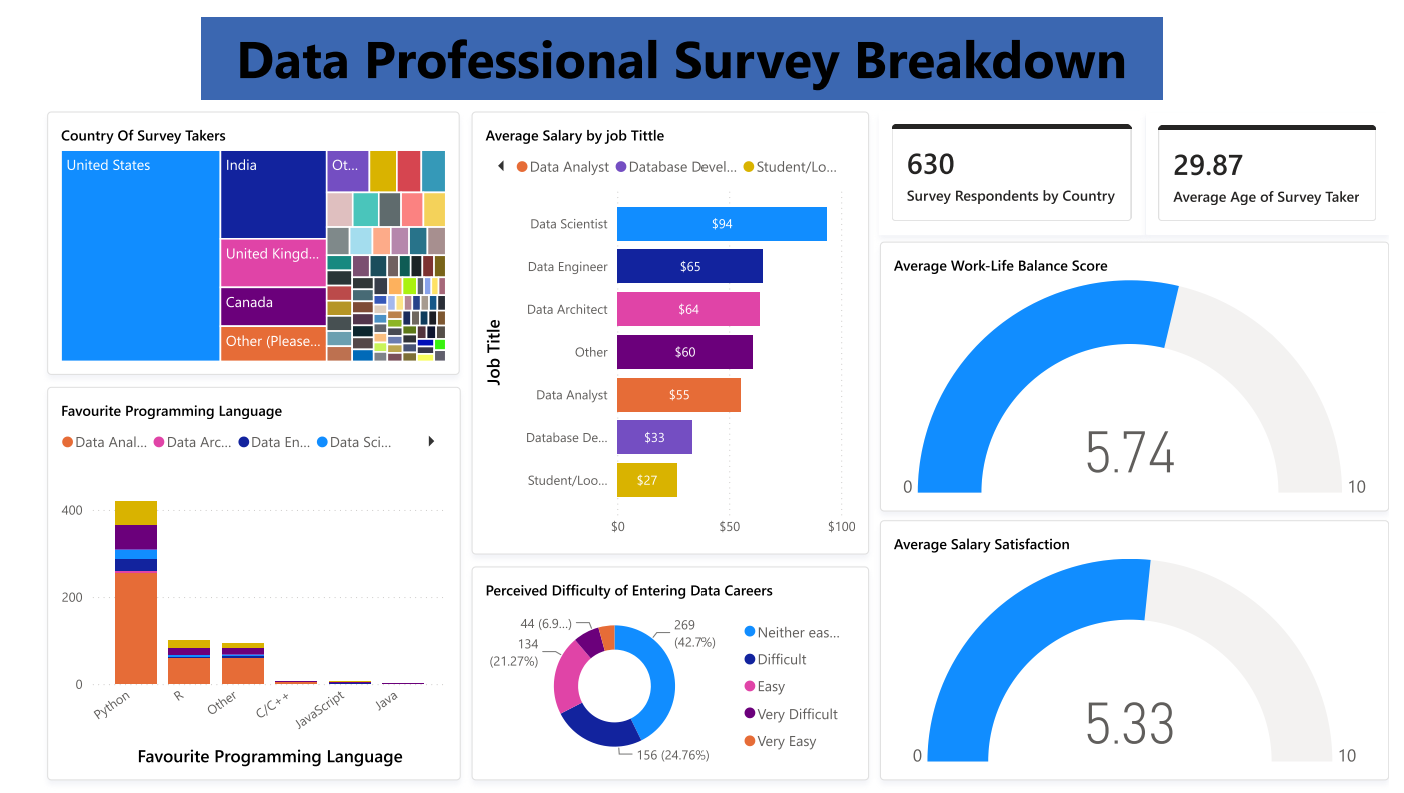

What the dashboard file says about the page in this screenshot:
{"tool":"powerbi","page":{"name":"Page 1","canvas":[1280,720],"ordinal":0},"visuals":[{"type":"textbox","box":[174.3,0,894.7,76.8],"z":0},{"type":"cardVisual","fields":{"Data":["CountNonNull(Data Professional Survey.Unique ID)"]},"box":[805.5,88.2,247.3,114.5],"z":1000},{"type":"cardVisual","fields":{"Data":["Avg(Data Professional Survey.Q10 - Current Age)"]},"box":[1052.5,88.8,227.5,113.8],"z":2000},{"type":"barChart","title":"Average Salary by job Tittle","fields":{"Category":["Data Professional Survey.Q1 - Which Title Best Fits your Current Role?.1"],"Y":["Avg(Data Professional Survey.Average salary)"],"Series":["Data Professional Survey.Q1 - Which Title Best Fits your Current Role?.1"]},"box":[425.5,88,370.5,412.1],"z":3000},{"type":"columnChart","title":"Favourite Programming Language","fields":{"Category":["Data Professional Survey.Q5 - Favorite Programming Language.1"],"Y":["CountNonNull(Data Professional Survey.Unique ID)"],"Series":["Data Professional Survey.Q1 - Which Title Best Fits your Current Role?.1"]},"box":[31.2,343.8,385,366.2],"z":4000},{"type":"treemap","title":"Country Of Survey Takers","fields":{"Group":["Data Professional Survey.Q11 - Which Country do you live in?"],"Values":["CountNonNull(Data Professional Survey.Q11 - Which Country do you live in?)"]},"box":[31.4,88.1,383.6,244.9],"z":5000},{"type":"gauge","title":"Average Work-Life Balance Score","fields":{"Y":["Avg(Data Professional Survey.Q6 - How Happy are you in your Current Position with the following? (Work/Life Balance))"],"MinValue":["Min(Data Professional Survey.Q6 - How Happy are you in your Current Position with the following? (Work/Life Balance))"],"MaxValue":["Max(Data Professional Survey.Q6 - How Happy are you in your Current Position with the following? (Work/Life Balance))1"]},"box":[805.8,209.1,474.5,250.7],"z":6000},{"type":"gauge","title":"Average Salary Satisfaction","fields":{"Y":["Avg(Data Professional Survey.Q6 - How Happy are you in your Current Position with the following? (Management))"],"MinValue":["Min(Data Professional Survey.Q6 - How Happy are you in your Current Position with the following? (Management))"],"MaxValue":["Max(Data Professional Survey.Q6 - How Happy are you in your Current Position with the following? (Management))"]},"box":[805.8,468.3,474.5,242.1],"z":7000},{"type":"donutChart","title":"Perceived Difficulty of Entering Data Careers","fields":{"Category":["Data Professional Survey.Q7 - How difficult was it for you to break into Data?"],"Y":["CountNonNull(Data Professional Survey.Q7 - How difficult was it for you to break into Data?)"]},"box":[425.5,511.1,370.5,199.3],"z":8000}]}

Visuals, with their boxes in screenshot pixels (x1, y1, x2, y2), scaled from the page's 1280x720 canvas onto the 1404x793 screenshot:
textbox: select_region(191, 0, 1173, 85)
cardVisual - CountNonNull(Data Professional Survey.Unique ID): select_region(884, 97, 1155, 223)
cardVisual - Avg(Data Professional Survey.Q10 - Current Age): select_region(1154, 98, 1403, 223)
"Average Salary by job Tittle" barChart: select_region(467, 97, 873, 551)
"Favourite Programming Language" columnChart: select_region(34, 379, 457, 782)
"Country Of Survey Takers" treemap: select_region(34, 97, 455, 367)
"Average Work-Life Balance Score" gauge: select_region(884, 230, 1403, 506)
"Average Salary Satisfaction" gauge: select_region(884, 516, 1403, 782)
"Perceived Difficulty of Entering Data Careers" donutChart: select_region(467, 563, 873, 782)
